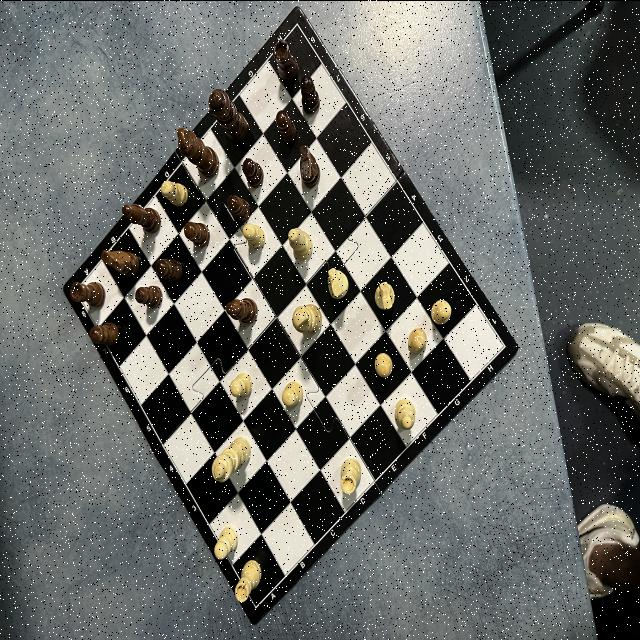Black-Bishop: (122, 204, 160, 232), (225, 298, 258, 322)
Black-King: (177, 127, 219, 176)
Black-Knight: (102, 248, 142, 276), (299, 142, 320, 186)
Black-Pawn: (90, 321, 120, 345), (300, 74, 318, 113), (276, 110, 296, 144), (184, 220, 210, 246), (242, 157, 264, 186), (156, 257, 182, 281), (136, 284, 162, 306), (228, 194, 250, 220)
Black-Queen: (208, 89, 246, 139)
Black-Rook: (274, 39, 298, 80), (69, 282, 105, 308)
White-Bishop: (288, 227, 312, 258), (394, 398, 415, 428)
White-King: (292, 303, 322, 333)
White-Knight: (374, 281, 396, 308), (328, 268, 348, 296)
White-Pawn: (214, 526, 239, 558), (161, 180, 188, 204), (282, 381, 304, 406), (230, 372, 252, 396), (243, 223, 265, 247), (374, 351, 394, 377), (431, 298, 451, 324), (408, 328, 426, 352)
White-Queen: (212, 437, 250, 481)
White-Rook: (235, 559, 262, 601), (339, 458, 362, 492)
